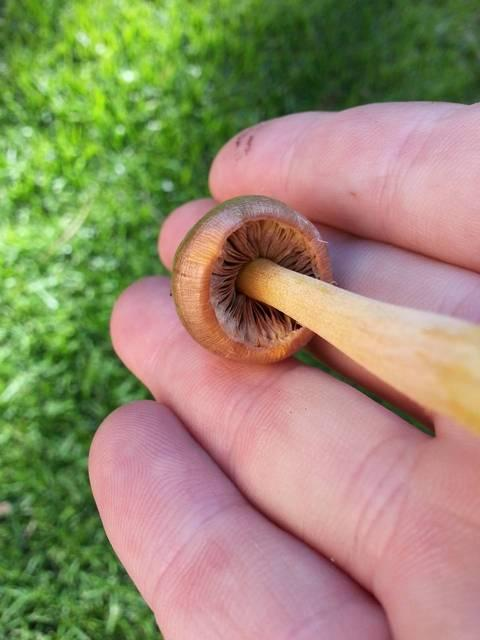edible_mushroom: (169, 193, 335, 365)
